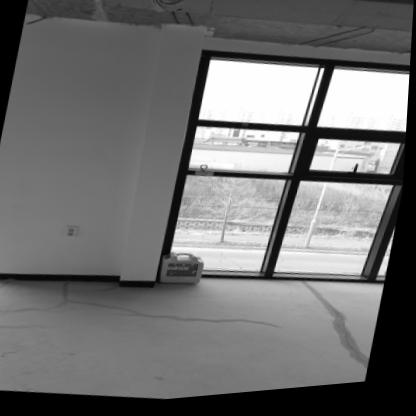DDL: (161, 254, 207, 286)
